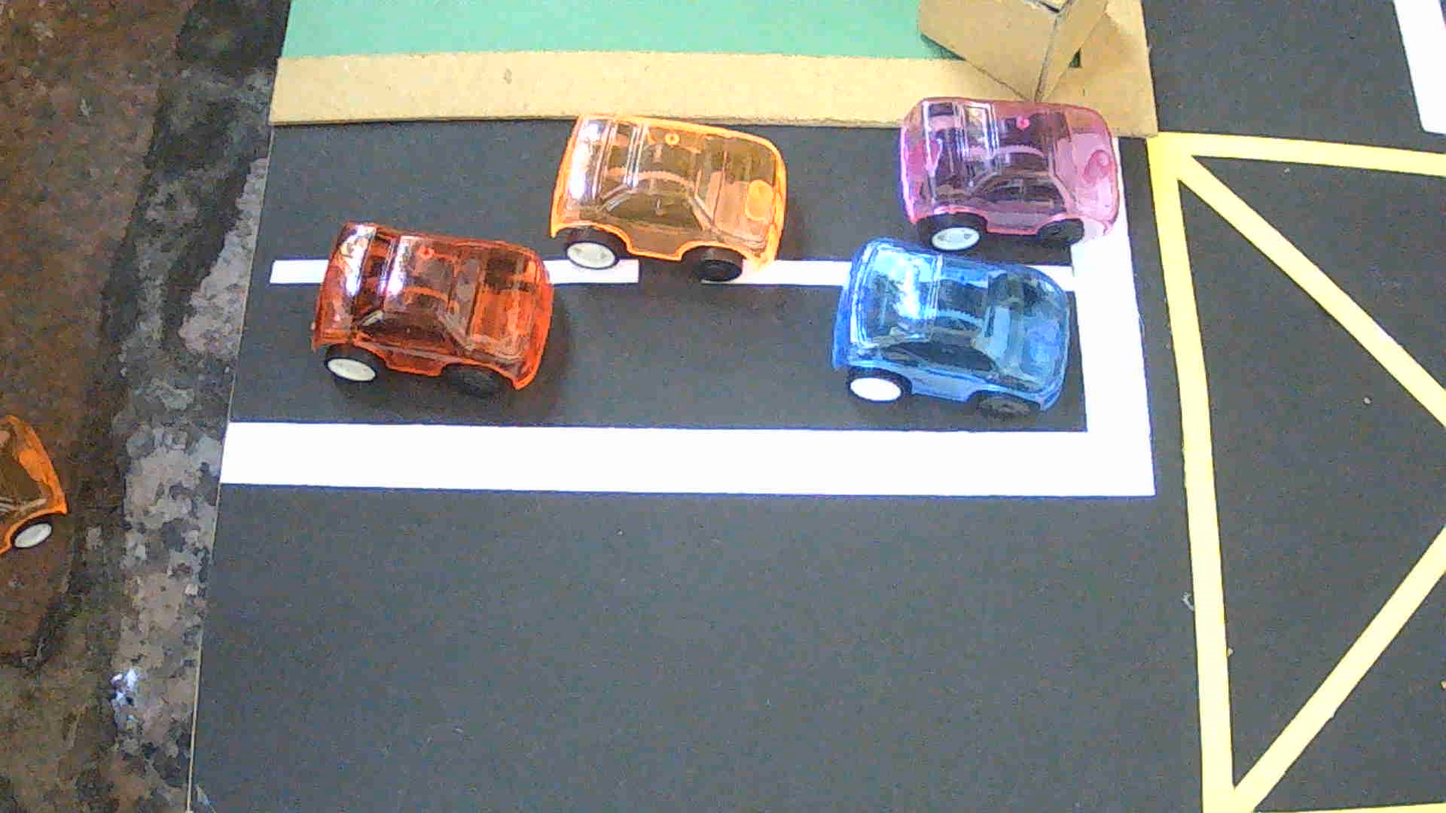Mobil biru: (832, 238, 1072, 416)
Mobil merah: (311, 221, 553, 396)
Mobil orange: (550, 114, 786, 281)
Mobil ungu: (898, 97, 1121, 252)
